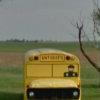Bus: (18, 45, 84, 100)
